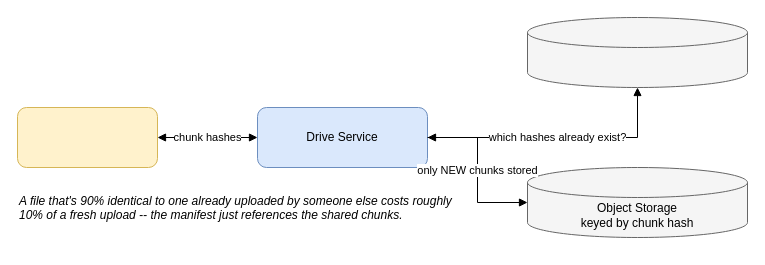
This 765x265 diagram has some shape labels left out. The box of each missing label's shape, as (x1, y1, x2, y2) in pixels:
Client: (16, 106, 158, 168)
SQL files, file_versions, chunks: (526, 16, 748, 88)
